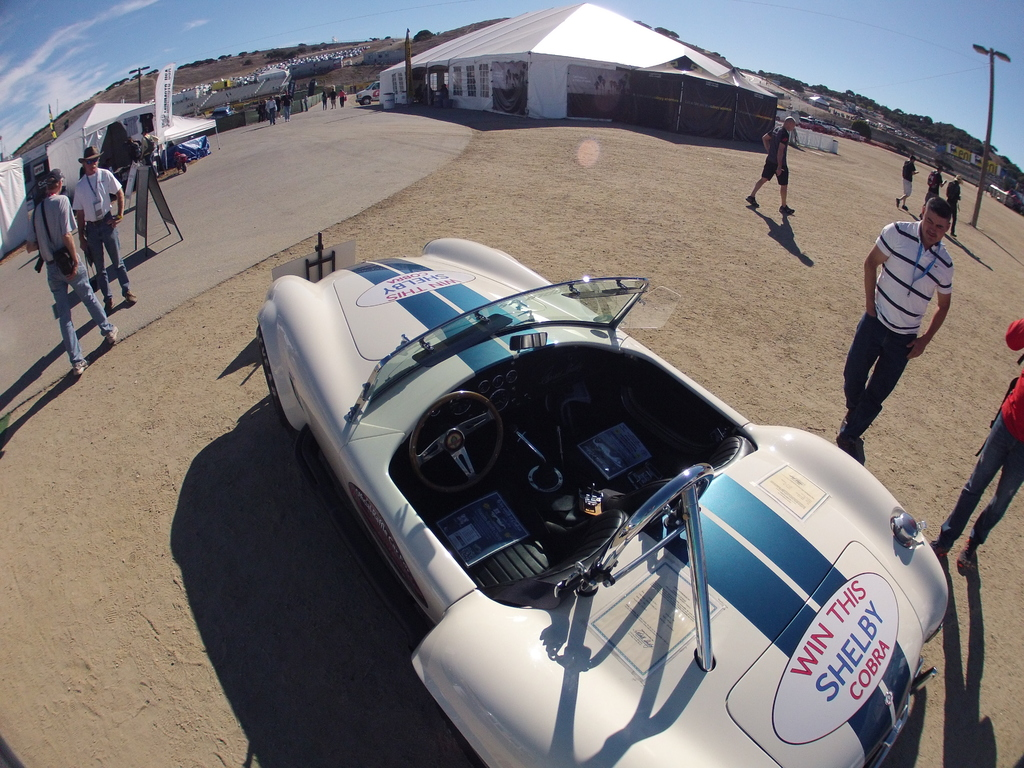Car: (253, 239, 952, 767), (353, 81, 379, 104), (208, 105, 235, 119), (842, 126, 863, 141), (824, 124, 842, 137), (801, 116, 821, 125)
